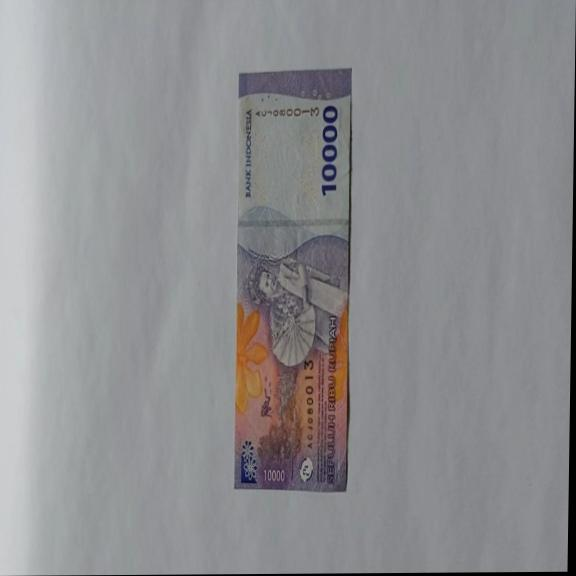Kertas: (232, 68, 354, 493)
